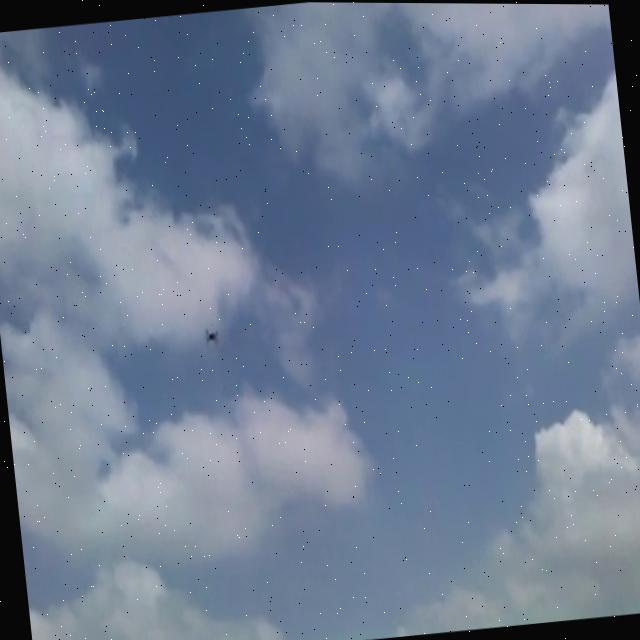drone: (199, 316, 223, 348)
